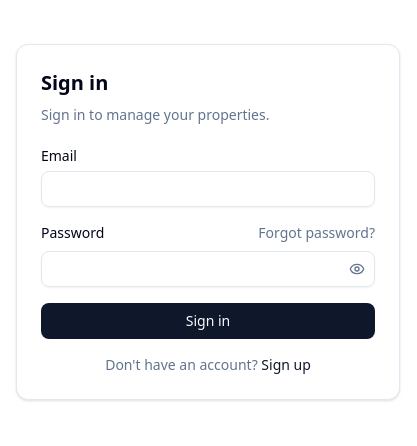
Test: SignInPage › shows a validation error for a malformed email and an empty password
Type "not-an-email" into the field labelled "Email".
click(208, 189); type("not-an-email")  # box [41,171,375,207]
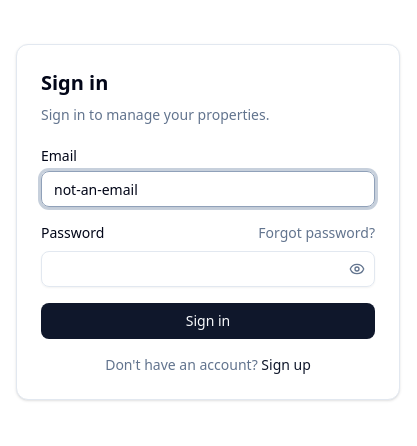
Click the button "Sign in".
click(208, 321)  # box [41,303,375,339]
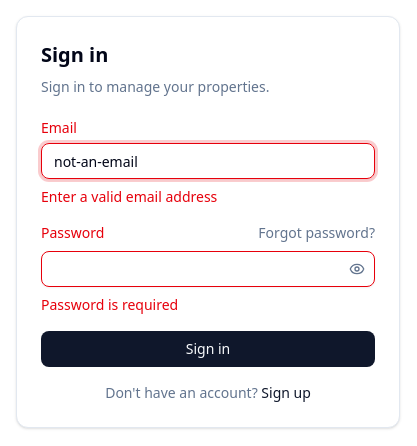
Expected: the text "Enter a valid email address" is shown, [41,187,217,206]
Expected: the text "Password is required" is shown, [41,295,178,314]
